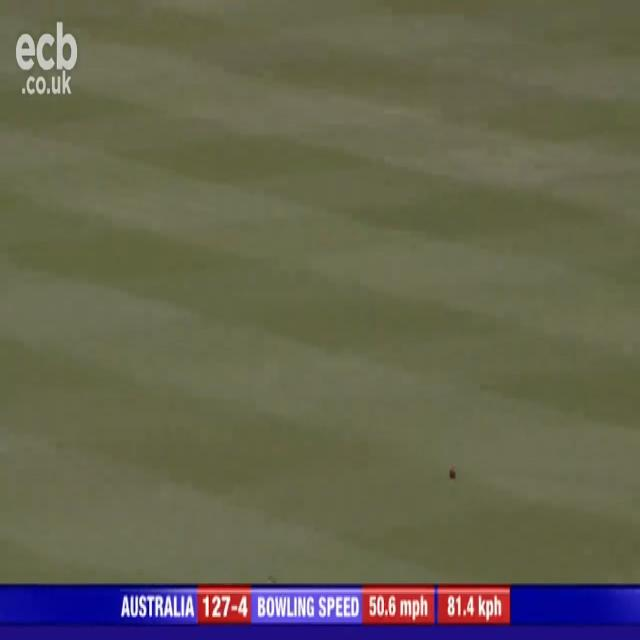ball: (444, 462, 463, 484)
